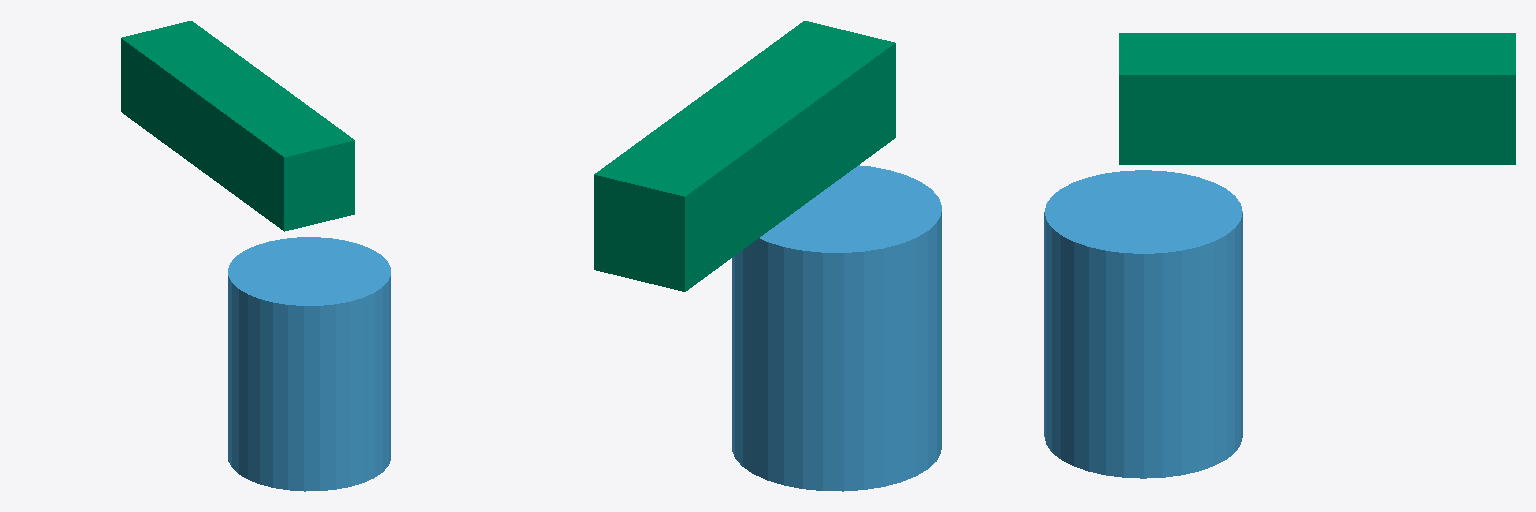
URDF robot description (template):
<?xml version="1.0"?>
<robot name="template">

    <!--World & Base -->	
    <link name="world">
    </link> 
    <joint name="base_joint" type="fixed">
        <origin xyz="0 0 0" rpy="0 0 0"/> 
        <parent link="world"/>
        <child link="base"/>
        <axis xyz="0 0 0"/>
    </joint>
    <link name="base">
        <inertial>
            <origin xyz="0 0 0" rpy="0 0 0"/>
            <mass value="1.0"/>
            <inertia ixx="0.1" iyy="0.1" izz="0.1" ixy="0" ixz="0" iyz="0"/>
        </inertial>
        <visual>
            <origin xyz="0 0 0" rpy="0 0 0"/>
            <geometry>
                <cylinder length="0.05" radius="0.02"/>
            </geometry> 
        </visual>
    </link> 

    <!--First Joint & Link  --> 
    <joint name="joint1" type="revolute">
        <origin xyz="0 0 0.0501" rpy="0 0 0"/> 
        <parent link="base"/>
        <child link="link1"/>
        <limit effort="300" velocity="100" lower="-3.14" upper="3.14" />
        <axis xyz="0 0 1"/>
    </joint> 
    <link name="link1">
        <inertial>
            <origin xyz="0 0.04 0" rpy="0 0 0"/>
            <mass value="1"/>
            <inertia ixx="0.001" iyy="0.001" izz="0.002" ixy="0" ixz="0" iyz="0"/>
        </inertial>
		<visual>
            <origin xyz="0 0.035 0" rpy="0 0 0"/>
            <geometry>
				<box size="0.02 0.08 0.02"/>
            </geometry>	
        </visual>
    </link>

    <!-- Legend for the libadvanced_plugin.so custom plugin 
    
        # The type of actuator is fixed i.e., qbMove
        # The control_type can be chosen as: [0,1,2]
        #      - [0] -> references are directly the motor positions
        #      - [1] -> references are used as equilibirium position and preset
        #      - [2] -> first reference is used as direct joint torque, while the second is not used (marked as disabled)
        #
        # The three other tags enable the generation and publication of additional topics: the elastic topic publisher, the state publisher and 
        #      enable the subscription to external torque topic

    -->
    <gazebo>
        <plugin name="advanced_vsa_j1" filename="libadvanced_plugin.so">
            <joint>joint1</joint>
            <control_type>1</control_type>
            <pub_eltau>true</pub_eltau>
            <pub_state>true</pub_state>
            <sub_ext_tau>true</sub_ext_tau>
        </plugin>
    </gazebo>

    <!-- Legend for the libsea_plugin.so custom plugin 
    
        # The stiffness of the SEA joint is defined in the <stiffness> tag
        #
        # The two other tags enable the generation and publication of additional topics: the state publisher and 
        #      enable the subscription to external torque topic
    -->
<!--     <gazebo>
        <plugin name="sea_j1" filename="libsea_plugin.so">
            <joint>joint1</joint>  
            <namespace>template_robot</namespace>
            <stiffness>100</stiffness>
            <pub_eltau>true</pub_eltau>
            <pub_state>true</pub_state>
            <sub_ext_tau>true</sub_ext_tau>
        </plugin>
    </gazebo> -->



</robot>

--- Facts derived from the render (not from the file) ---
Views: 3 orthographic renders of the robot side by side, from view 1: azimuth 30°, elevation 25°; view 2: azimuth 150°, elevation 25°; view 3: azimuth 270°, elevation 25°.
Robot: template — 3 links, 2 joints (1 revolute, 1 fixed); root link world; default pose: every joint at zero.
Links seen in each view (by area): view 1: base, link1; view 2: base, link1; view 3: base, link1.
Boxes of the visible links, left/top/right/bottom form: base: left=228, top=237, right=390, bottom=491; link1: left=121, top=21, right=354, bottom=231; base: left=732, top=165, right=941, bottom=491; link1: left=594, top=21, right=895, bottom=291; base: left=1044, top=170, right=1242, bottom=478; link1: left=1119, top=33, right=1515, bottom=164.
Size in the robot's own frame: 0.04 by 0.095 by 0.0851 metres.
Geometry: primitives only (box / cylinder / sphere), no mesh files.